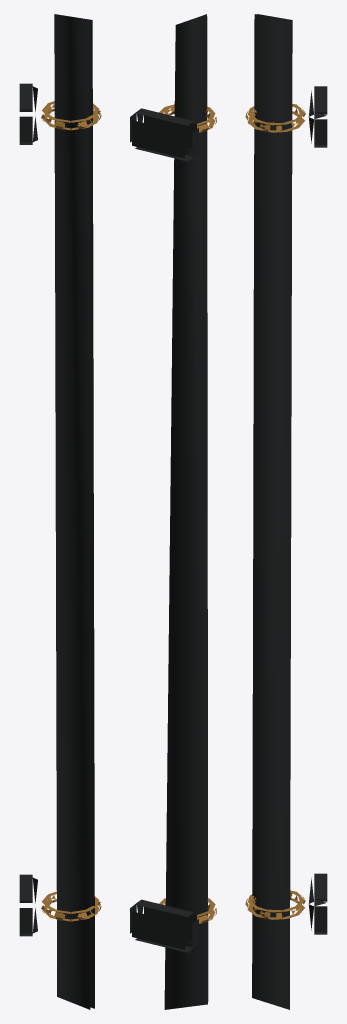
File: DrainpipeStraight.glb
3 renders of one model, left to right at view 1: azimuth 90°, elevation 25°; view 2: azimuth 150°, elevation 25°; view 3: azimuth 270°, elevation 25°, orthographic.
Visible parts, largest first — view 1: BlackIronDrainpipe, PipeWallBracket, PipeWallBracket.001, PipeCollar.001, PipeCollar; view 2: BlackIronDrainpipe, PipeWallBracket.001, PipeWallBracket, PipeCollar.001, PipeCollar; view 3: BlackIronDrainpipe, PipeWallBracket.001, PipeWallBracket, PipeCollar, PipeCollar.001.
Boxes of the visible parts, bbox=[...] form: BlackIronDrainpipe: bbox=[54, 14, 94, 1009]; PipeWallBracket: bbox=[19, 874, 37, 936]; PipeWallBracket.001: bbox=[19, 83, 37, 144]; PipeCollar.001: bbox=[41, 101, 101, 130]; PipeCollar: bbox=[41, 891, 101, 921]; BlackIronDrainpipe: bbox=[164, 14, 208, 1009]; PipeWallBracket.001: bbox=[130, 108, 198, 161]; PipeWallBracket: bbox=[130, 899, 198, 952]; PipeCollar.001: bbox=[159, 104, 216, 132]; PipeCollar: bbox=[159, 898, 216, 923]; BlackIronDrainpipe: bbox=[252, 14, 292, 1009]; PipeWallBracket.001: bbox=[308, 86, 327, 147]; PipeWallBracket: bbox=[308, 873, 327, 934]; PipeCollar: bbox=[245, 890, 305, 919]; PipeCollar.001: bbox=[245, 104, 305, 132].
Bounding box in the file's own units: 0.33 × 5 × 0.402.
